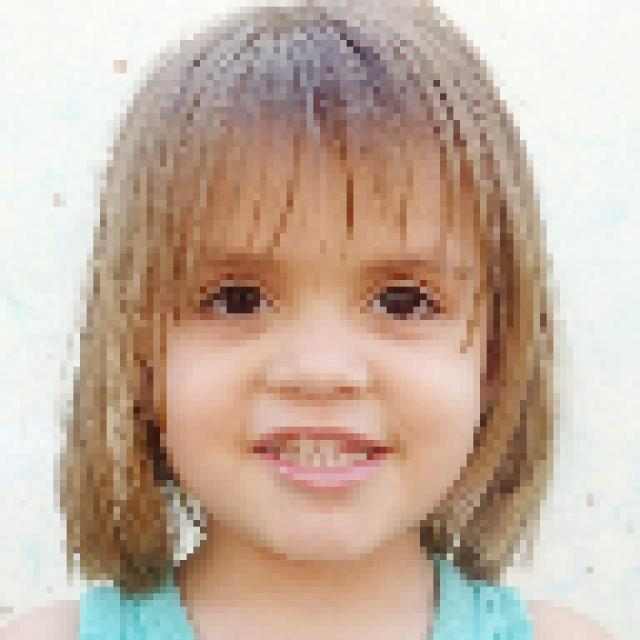happy: (115, 125, 555, 612)
